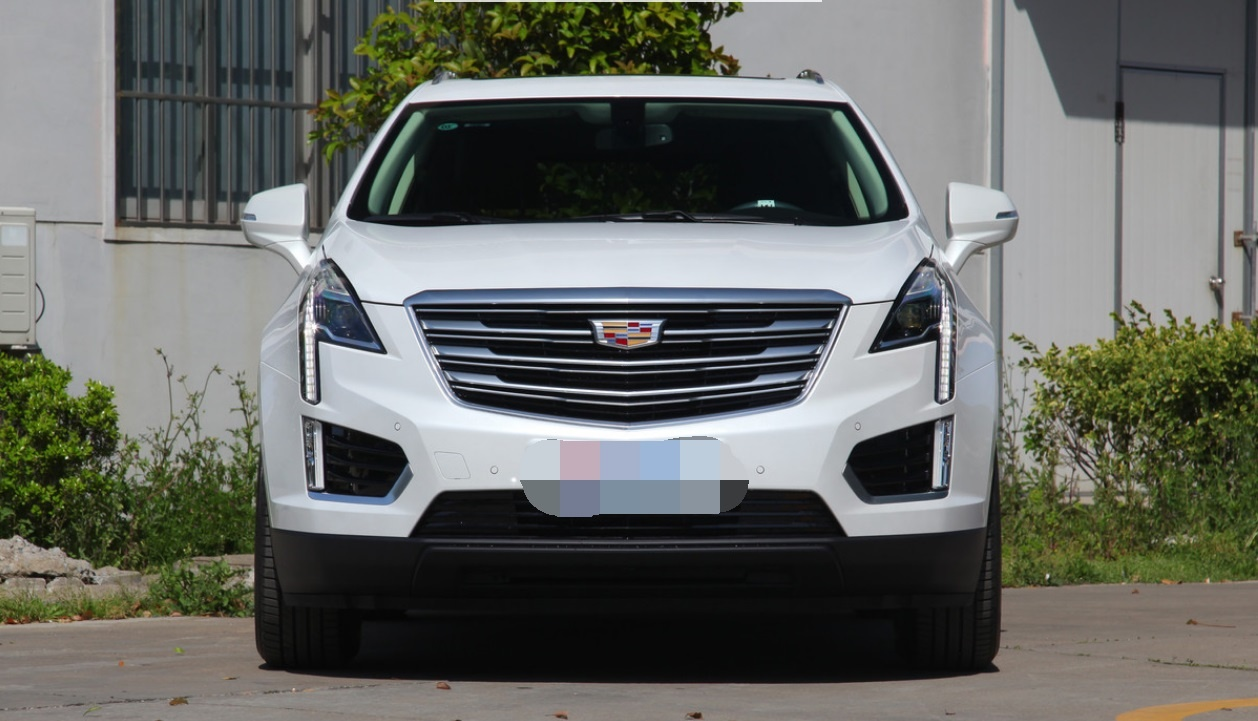SUV: (235, 68, 1039, 664)
